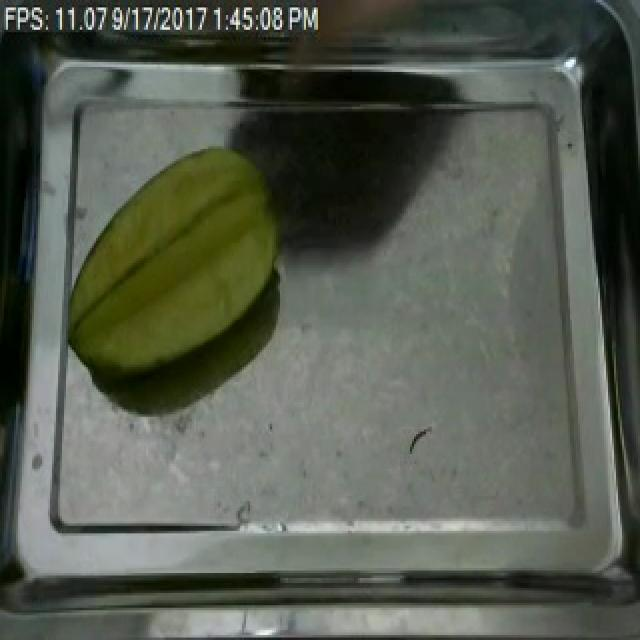fruit: (58, 139, 290, 387)
